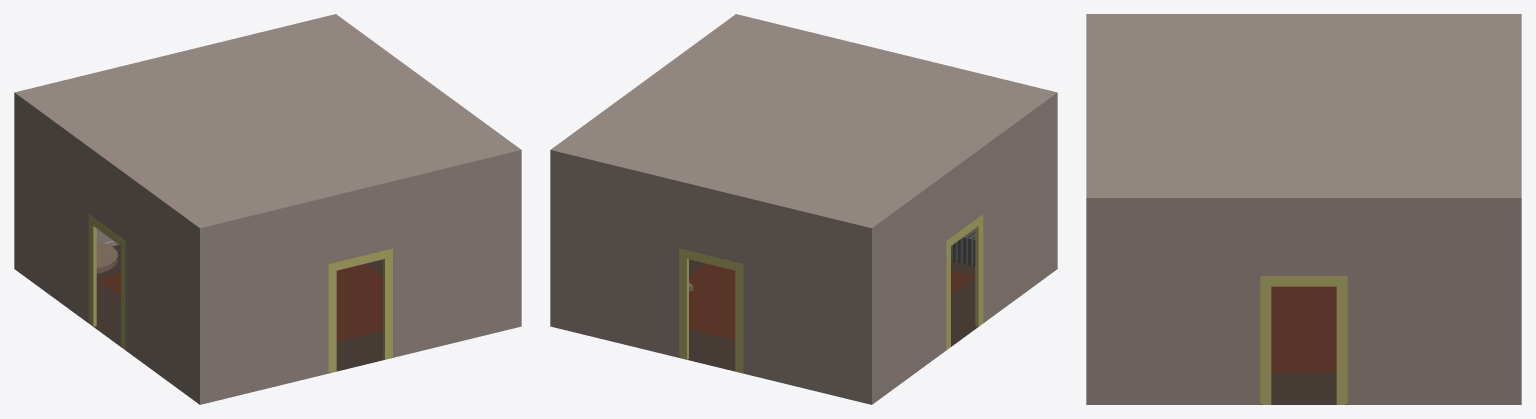
Rendered from Room04_Ballroom.fbx.
3 views of the same model, side by side, from view 1: azimuth 30°, elevation 25°; view 2: azimuth 150°, elevation 25°; view 3: azimuth 270°, elevation 25° (orthographic). The views are drawn at different scales.
Parts seen in each view (by area): view 1: Roof, WallSlicedPosZ, WallSlicedPosX, WallSlicedPosZ7, WallSlicedPosX15, pPlane6, Floor, DoorFramePosZ, DoorFramePosX, WallSlicedNegX, pCylinder3, WallSlicedNegZ; view 2: Roof, WallSlicedNegZ, WallSlicedPosX, WallSlicedNegZ33, WallSlicedPosX15, pPlane6, Floor, DoorFrameNegZ, DoorFramePosX, heater, WallSlicedNegX, WallSlicedPosZ; view 3: Roof, WallSlicedNegX, WallSlicedNegX7, pPlane6, DoorFrameNegX, Floor, WallSlicedPosZ, WallSlicedNegZ, WallSlicedPosX.
Boxes of the visible parts, x1,y1,x2,y2 form: Roof: [17, 15, 518, 227]; WallSlicedPosZ: [199, 149, 521, 364]; WallSlicedPosX: [14, 92, 201, 363]; WallSlicedPosZ7: [198, 286, 521, 404]; WallSlicedPosX15: [14, 229, 202, 404]; pPlane6: [96, 264, 382, 341]; Floor: [89, 245, 392, 373]; DoorFramePosZ: [328, 248, 392, 372]; DoorFramePosX: [88, 214, 125, 349]; WallSlicedNegX: [335, 14, 521, 286]; pCylinder3: [96, 241, 117, 273]; WallSlicedNegZ: [14, 14, 336, 228]; Roof: [553, 15, 1054, 227]; WallSlicedNegZ: [550, 149, 872, 364]; WallSlicedPosX: [870, 92, 1056, 364]; WallSlicedNegZ33: [550, 286, 872, 404]; WallSlicedPosX15: [869, 229, 1057, 404]; pPlane6: [689, 263, 975, 340]; Floor: [679, 259, 982, 373]; DoorFrameNegZ: [679, 248, 743, 372]; DoorFramePosX: [946, 214, 983, 349]; heater: [951, 228, 975, 266]; WallSlicedNegX: [550, 14, 736, 286]; WallSlicedPosZ: [735, 14, 1057, 228]; Roof: [1088, 14, 1519, 197]; WallSlicedNegX: [1086, 197, 1521, 357]; WallSlicedNegX7: [1086, 357, 1521, 404]; pPlane6: [1271, 286, 1336, 373]; DoorFrameNegX: [1260, 276, 1347, 404]; Floor: [1260, 373, 1347, 404]; WallSlicedPosZ: [1086, 14, 1087, 357]; WallSlicedNegZ: [1520, 14, 1521, 357]; WallSlicedPosX: [1088, 14, 1521, 14].
Bounding box in the file's own units: 800 × 420 × 800.
